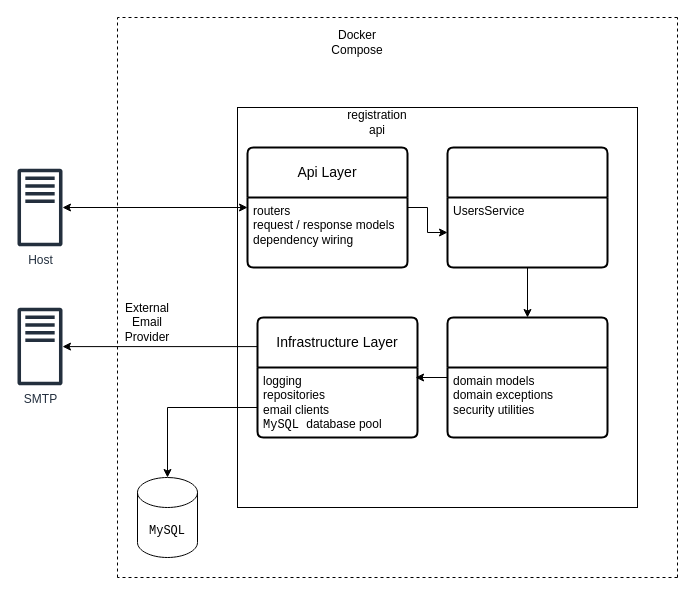
This 696x596 diagram has some shape labels left out. The shapes that lost their labels are listed below. From the top down, each one's box as (x1, y1, x2, y2) in pixels, then its label:
(446, 146, 608, 268): Service Layer
(446, 316, 608, 438): Domain Layer
